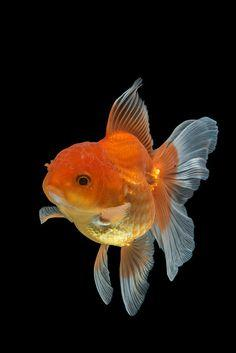goldfish: (26, 96, 217, 279)
